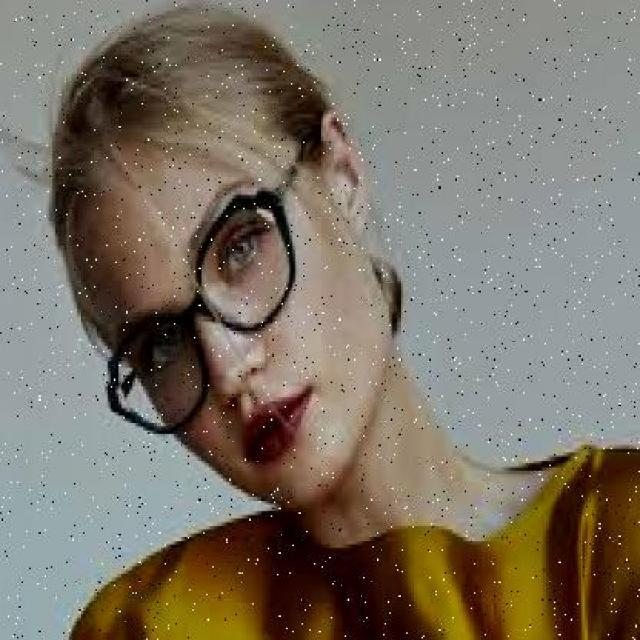glasses: (117, 172, 291, 452)
